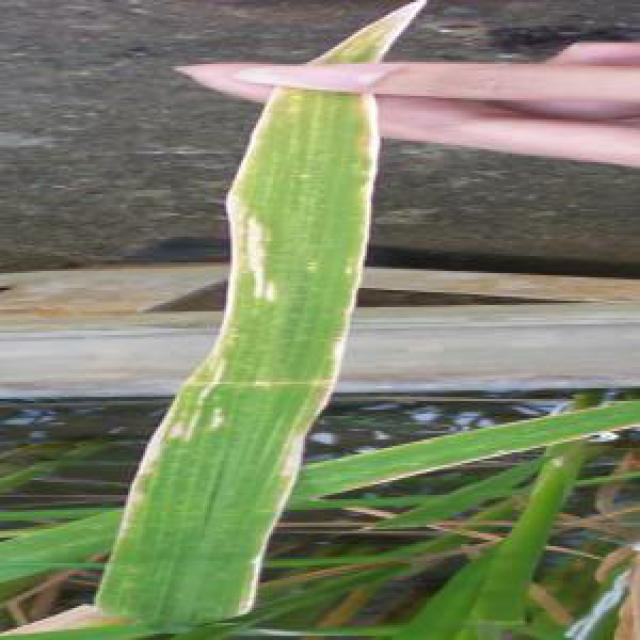Bacterial_Blight: (232, 95, 384, 620), (125, 353, 233, 526), (304, 0, 440, 68), (213, 190, 290, 306), (226, 87, 286, 192)
